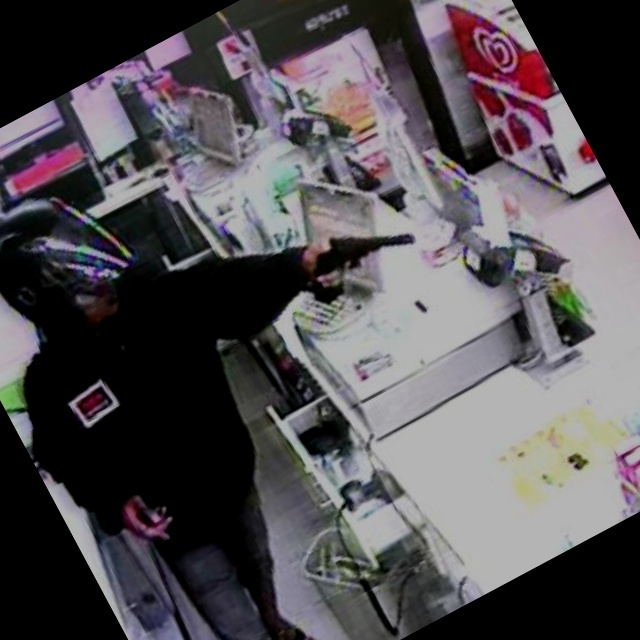gun: (289, 199, 437, 330)
